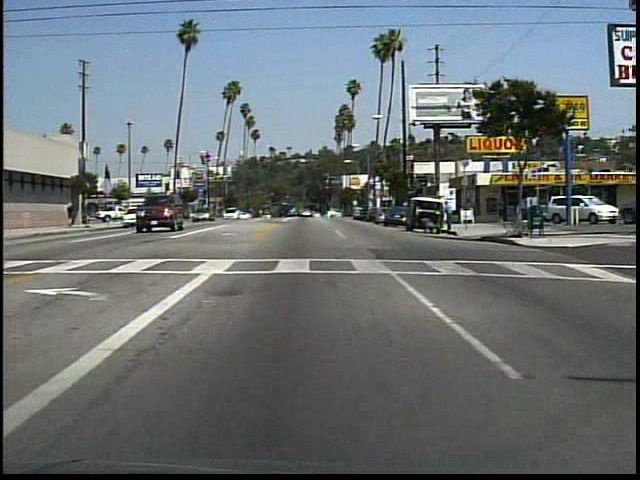person: (441, 197, 458, 235), (491, 191, 507, 223), (417, 215, 435, 234), (69, 200, 77, 227)
